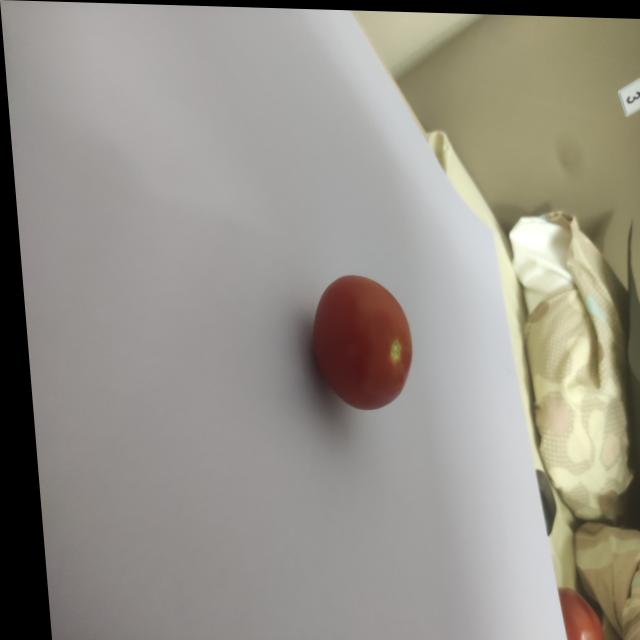kirmizi: (297, 257, 419, 413)
